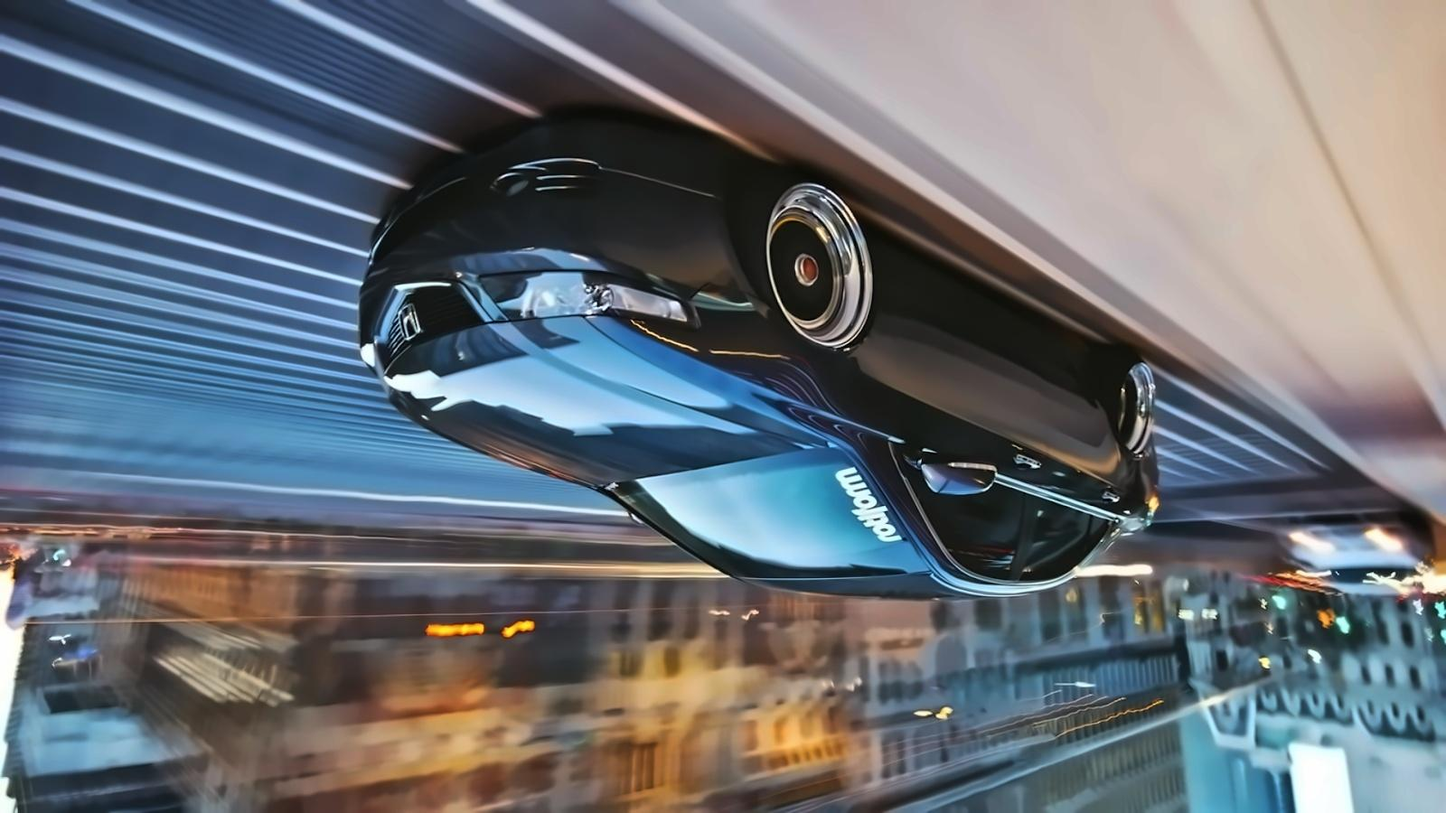Car hood: (378, 312, 861, 492)
Driver-s door - -F-R-: (874, 248, 1027, 605)
Fender - -F-R-: (660, 247, 894, 403)
Front bumper: (344, 114, 750, 356)
Headlight - -R-: (464, 261, 694, 329)
Passenger-s door - -R-R-: (966, 275, 1122, 605)
Side bumper - -R-: (863, 240, 1118, 405)
Side mirror - -R-: (913, 447, 1003, 500)
